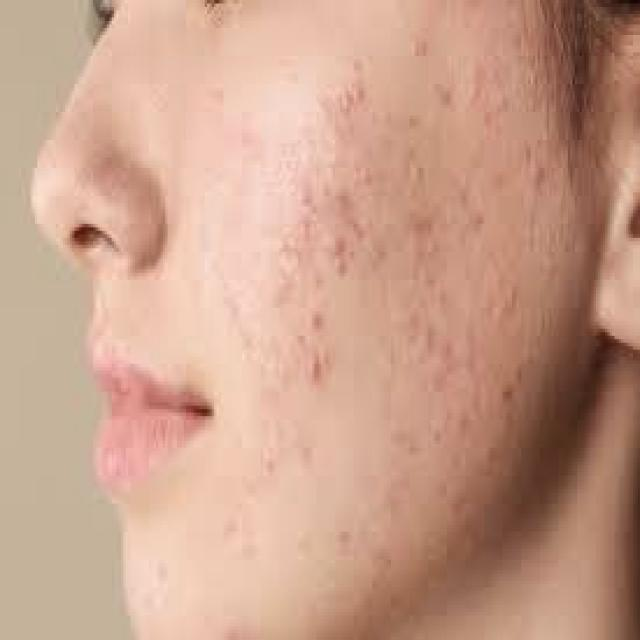Acne: (466, 59, 510, 114), (408, 202, 447, 255), (338, 71, 366, 115), (328, 232, 348, 280), (302, 351, 328, 387), (528, 160, 548, 190)
